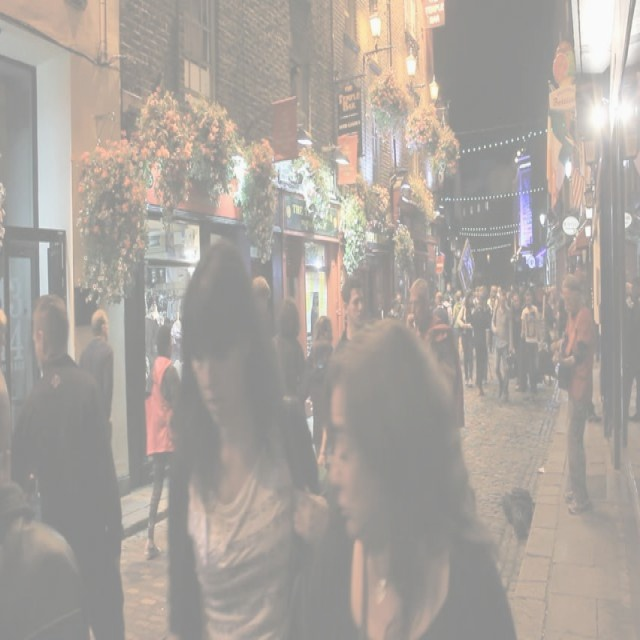pessoa: (160, 232, 352, 639), (287, 313, 519, 639), (11, 288, 132, 639), (0, 346, 91, 638), (548, 270, 596, 518), (142, 325, 186, 563), (406, 274, 464, 432), (304, 314, 338, 458), (78, 306, 116, 424), (270, 294, 306, 396), (579, 274, 603, 426), (621, 278, 639, 458), (330, 276, 366, 356), (490, 289, 514, 404), (144, 284, 182, 354), (519, 288, 543, 396), (470, 292, 492, 397), (455, 288, 473, 387), (510, 290, 522, 392), (248, 270, 272, 314), (556, 276, 568, 343), (432, 290, 449, 326), (544, 289, 558, 331), (442, 281, 454, 327), (486, 284, 502, 312), (441, 293, 454, 324), (452, 289, 463, 324), (548, 282, 560, 314), (535, 282, 544, 310), (471, 284, 480, 312), (518, 285, 526, 308), (504, 289, 513, 308), (480, 282, 488, 292)
